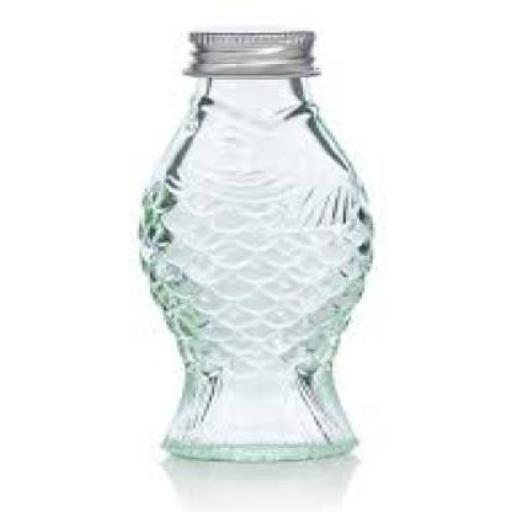glass: (137, 73, 373, 460)
metal: (180, 29, 316, 74)
